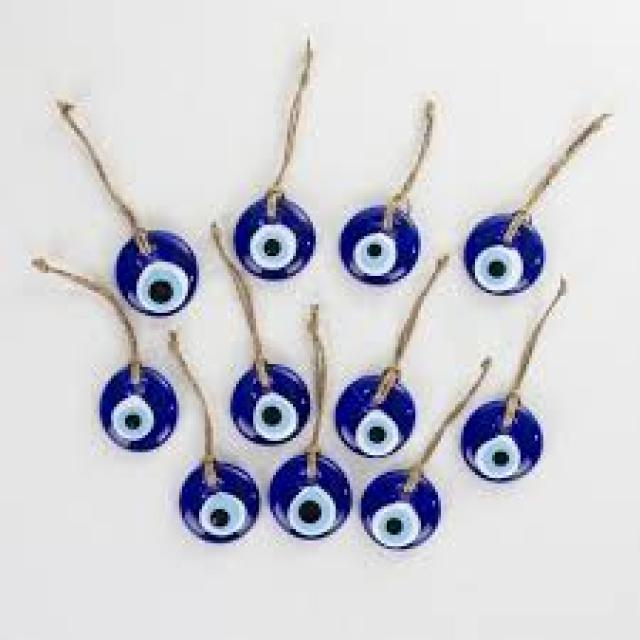Nazar-Boncugu: (230, 188, 316, 284), (111, 230, 199, 321), (461, 390, 543, 484), (461, 210, 546, 299), (338, 205, 421, 287)
